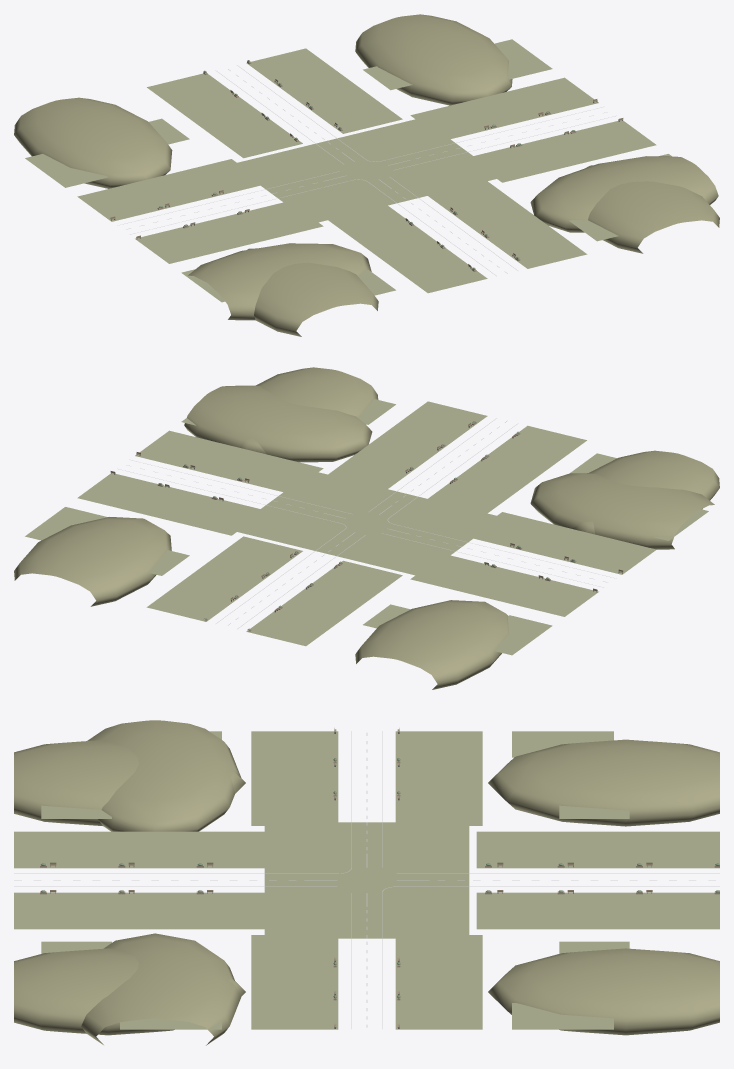
The picture shows the model from 3 angles, top to bottom: view 1: azimuth 30°, elevation 25°; view 2: azimuth 150°, elevation 25°; view 3: azimuth 270°, elevation 25°; orthographic projection. The views are drawn at different scales.
Visible parts, largest first — view 1: static; view 2: static; view 3: static.
Part boxes in pixels (x1,y1,x2,y2): static: (14, 14, 719, 336); static: (14, 367, 719, 689); static: (14, 720, 719, 1045).
Size of what is drawn, in the model's own units: 180 by 14.08 by 180.
